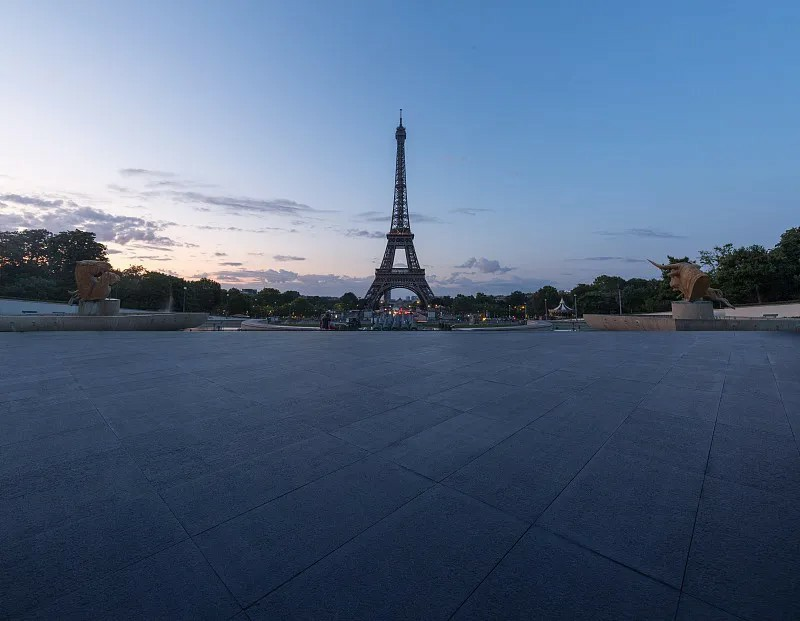Eiffel: (361, 109, 436, 313)
